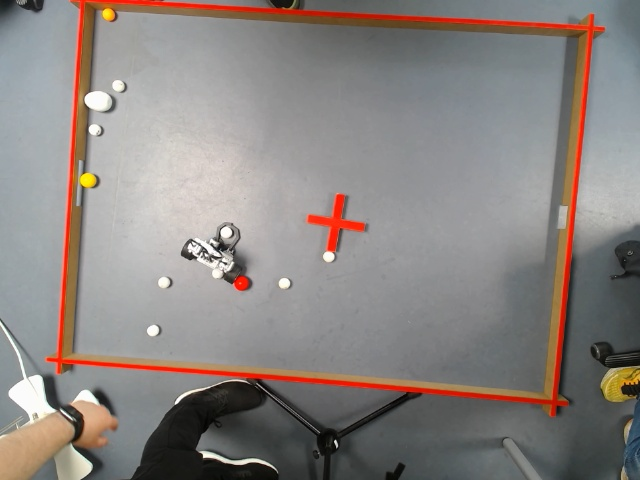big_goal: (72, 158, 84, 207)
cross: (302, 189, 370, 252)
egg: (84, 90, 110, 111)
orange: (100, 6, 113, 20)
robot: (178, 216, 246, 284)
small_goal: (552, 200, 568, 231)
wall: (72, 9, 581, 393)
white: (110, 78, 124, 92), (278, 276, 292, 290), (156, 275, 171, 288), (88, 122, 100, 134), (146, 324, 158, 335), (220, 225, 230, 236), (212, 269, 222, 278), (322, 252, 332, 261)
